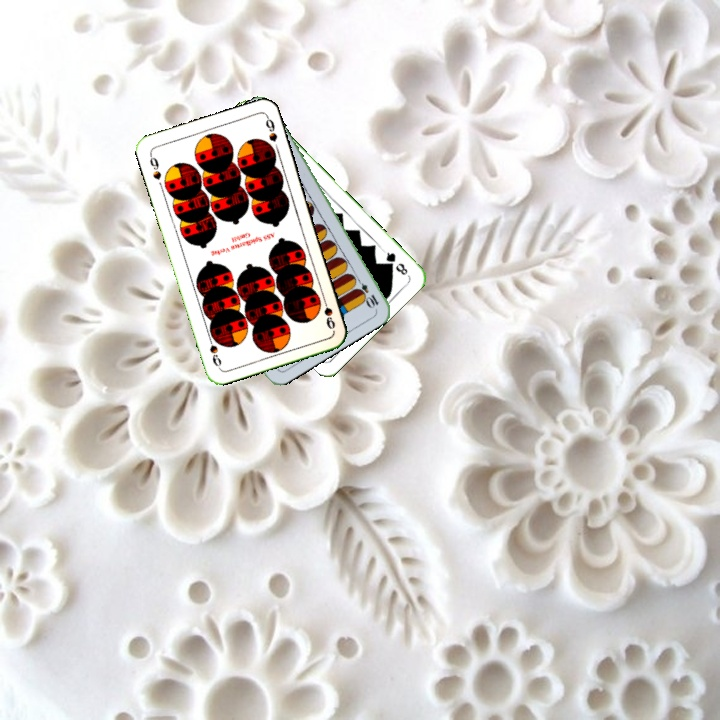E10: (351, 273, 381, 311)
G8: (379, 246, 410, 278)
S9: (314, 293, 338, 332), (145, 150, 164, 182)
